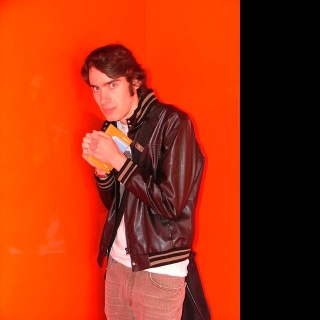without_mask: (90, 67, 135, 123)
